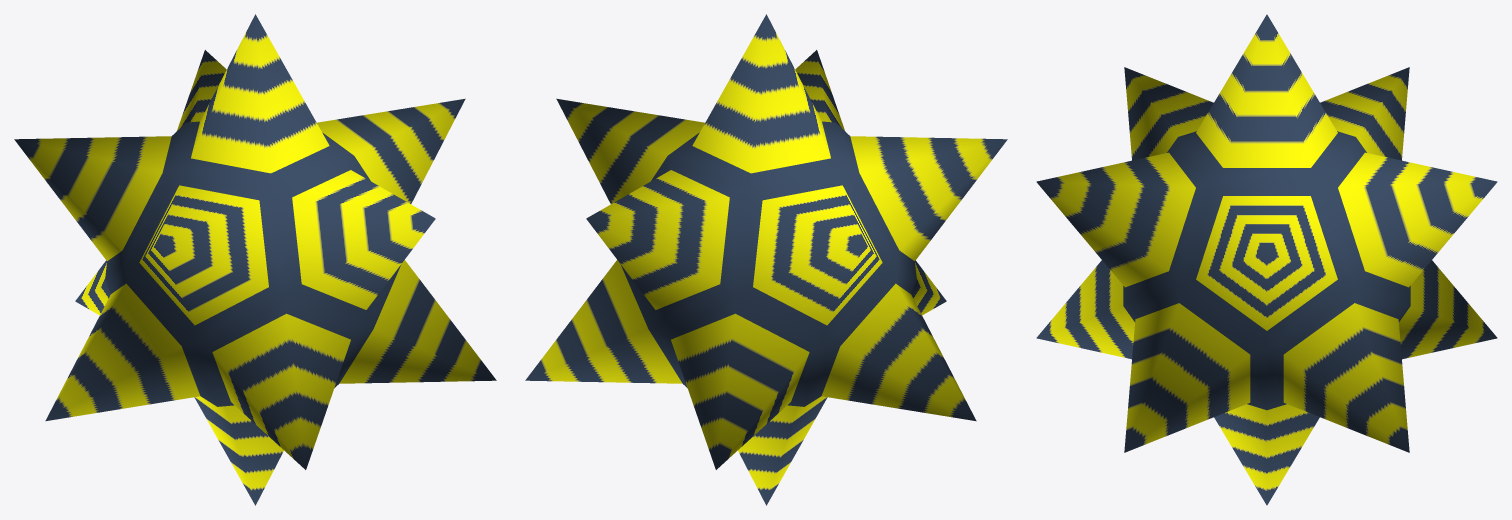
File: toge.FBX
3 renders of one model, left to right at view 1: azimuth 30°, elevation 25°; view 2: azimuth 150°, elevation 25°; view 3: azimuth 270°, elevation 25°, orthographic.
Visible parts, largest first — view 1: GeoSphere002; view 2: GeoSphere002; view 3: GeoSphere002.
Part boxes in pixels (left/top/right/bottom): GeoSphere002: left=14, top=14, right=496, bottom=505; GeoSphere002: left=525, top=14, right=1007, bottom=505; GeoSphere002: left=1036, top=14, right=1497, bottom=505.
Bounding box in the file's own units: 4.26 × 4.77 × 4.06.
